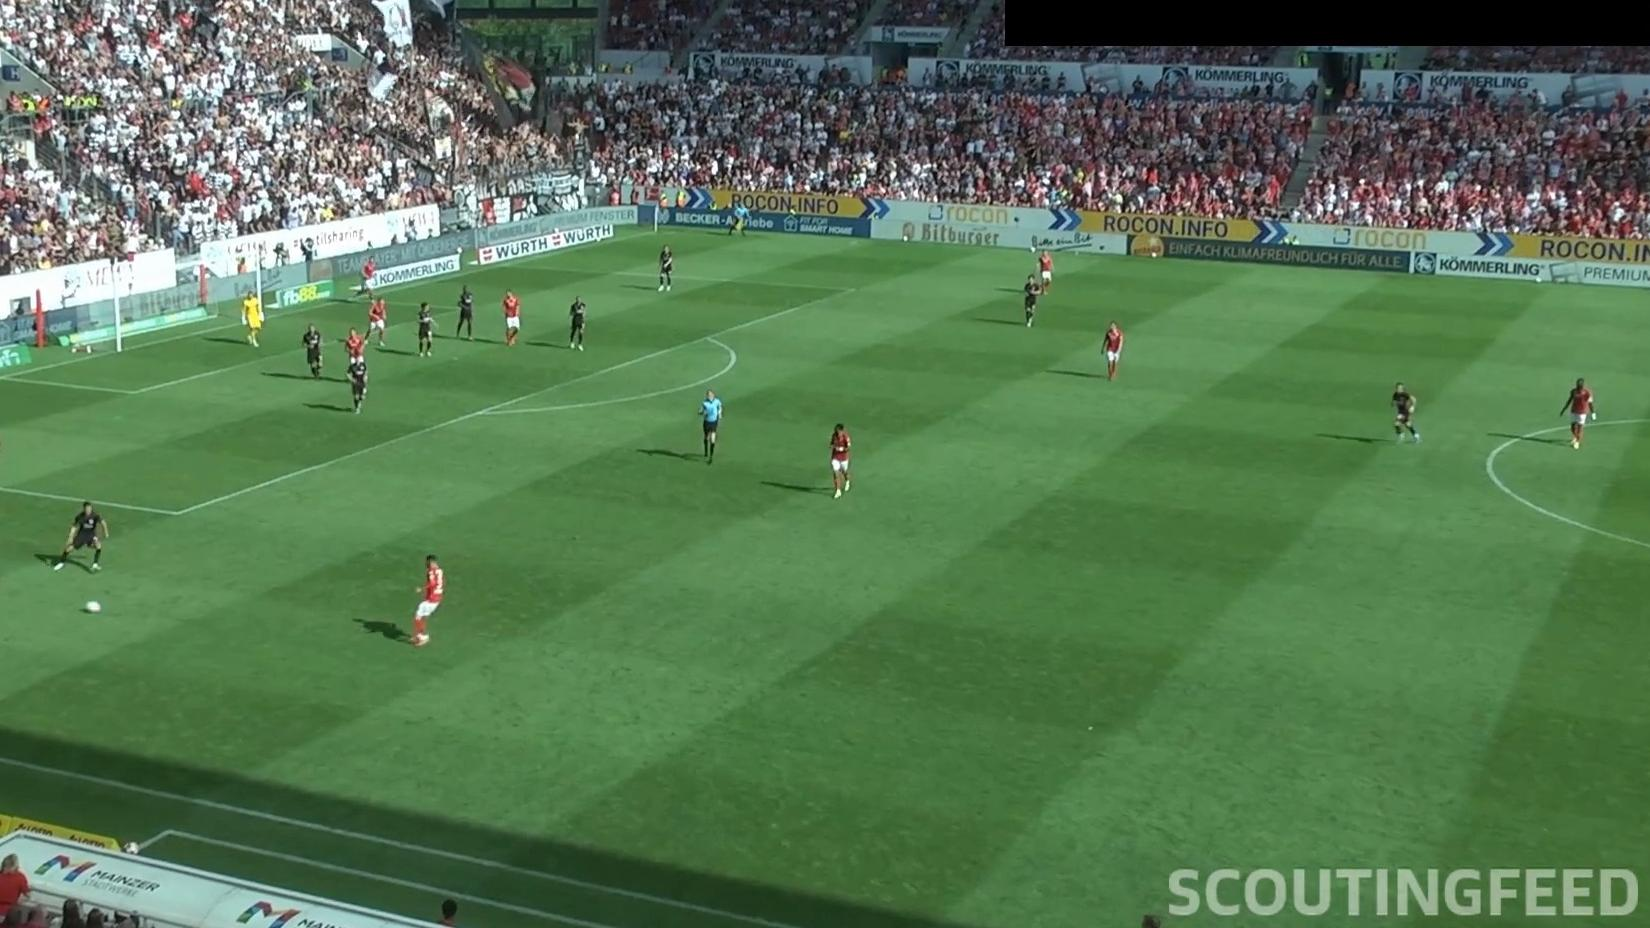ball: (85, 599, 102, 614)
